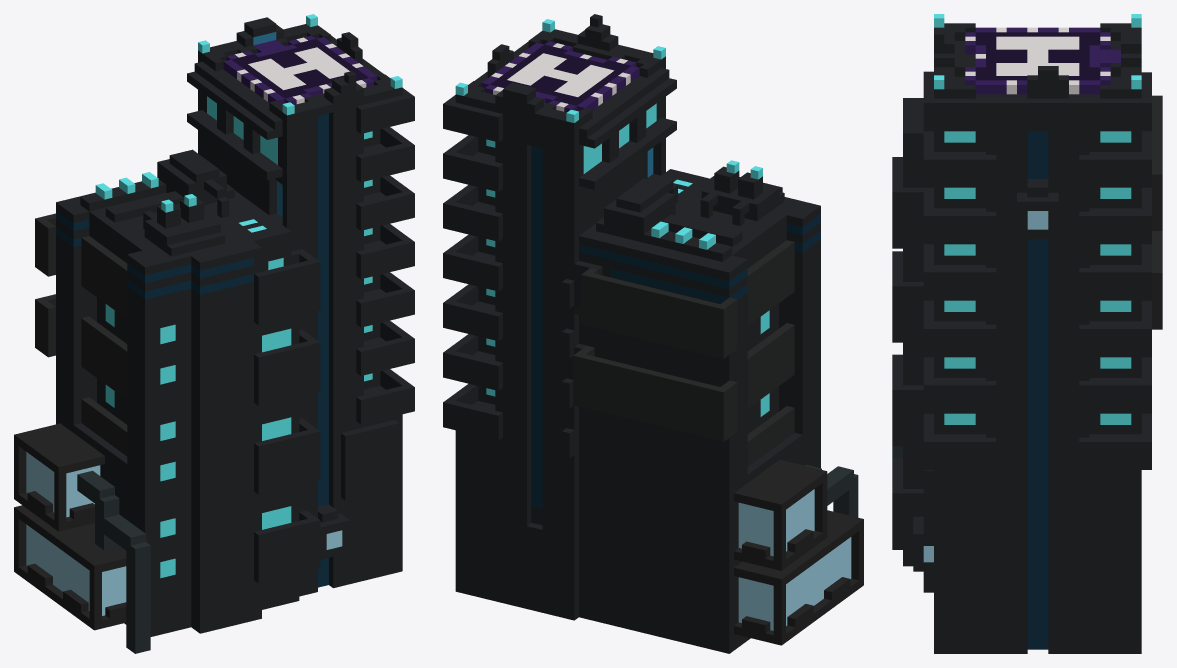
Rendered from torinoCyberPunk-12.obj.
3 views of the same model, side by side, from view 1: azimuth 30°, elevation 25°; view 2: azimuth 150°, elevation 25°; view 3: azimuth 270°, elevation 25° (orthographic). The views are drawn at different scales.
Size of the model in its own units: 4.2 by 6.3 by 2.6.
Materials: 1 (1 with a texture image).
